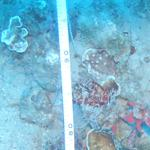dead: (1, 2, 147, 146)
